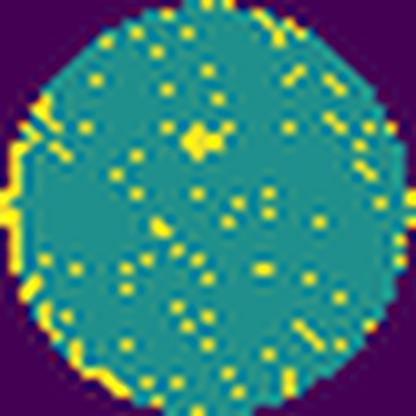Loc: (179, 120, 222, 164)
